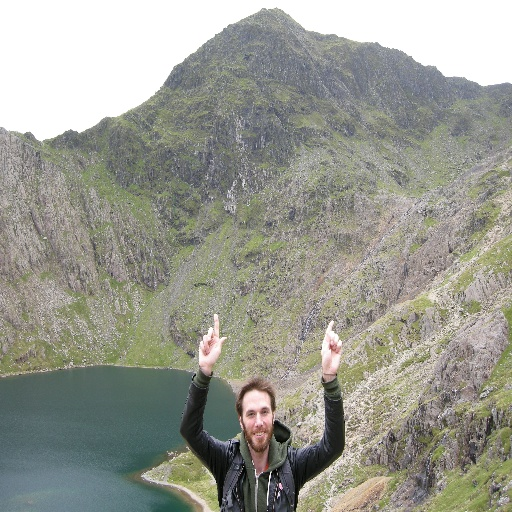hand: (195, 329, 228, 395), (319, 317, 343, 378)
